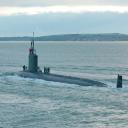submarine: (13, 33, 123, 89)
